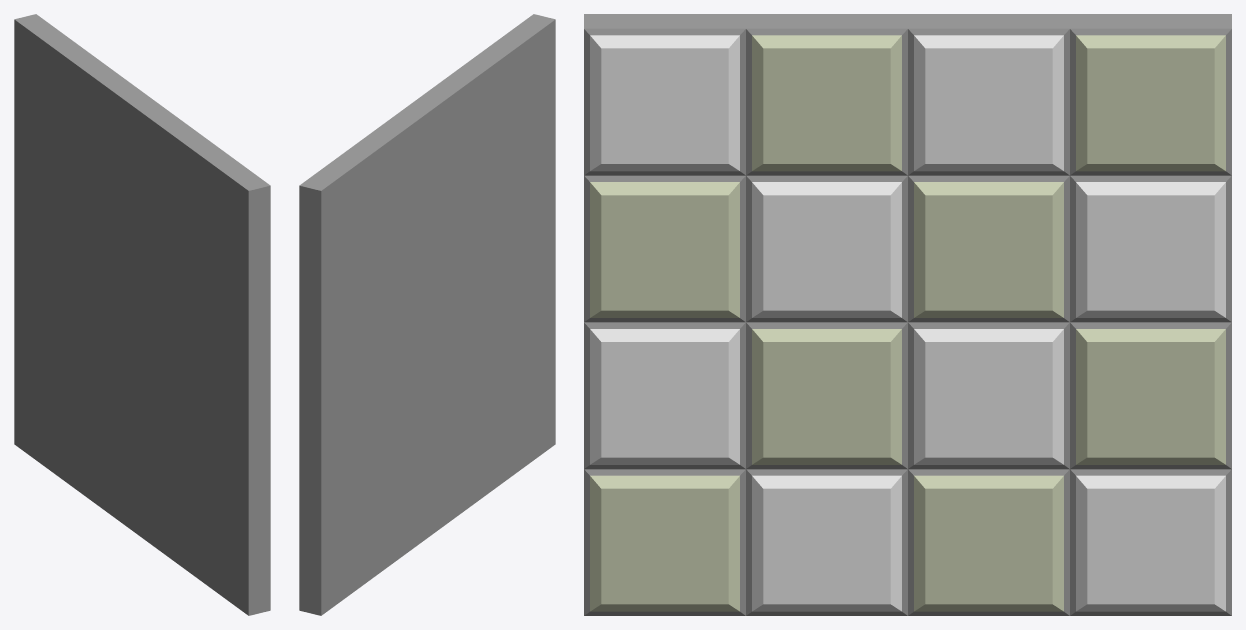
File: BackdropTile.fbx
3 renders of one model, left to right at view 1: azimuth 30°, elevation 25°; view 2: azimuth 150°, elevation 25°; view 3: azimuth 270°, elevation 25°, orthographic. The views are drawn at different scales.
Visible parts, largest first — view 1: Cube; view 2: Cube; view 3: Cube.
Part boxes in pixels (box(x1,y1,x2,y2)): Cube: box(14, 14, 270, 615); Cube: box(299, 14, 555, 615); Cube: box(584, 14, 1231, 615).
Bounding box in the file's own units: 13.72 × 200 × 200.
